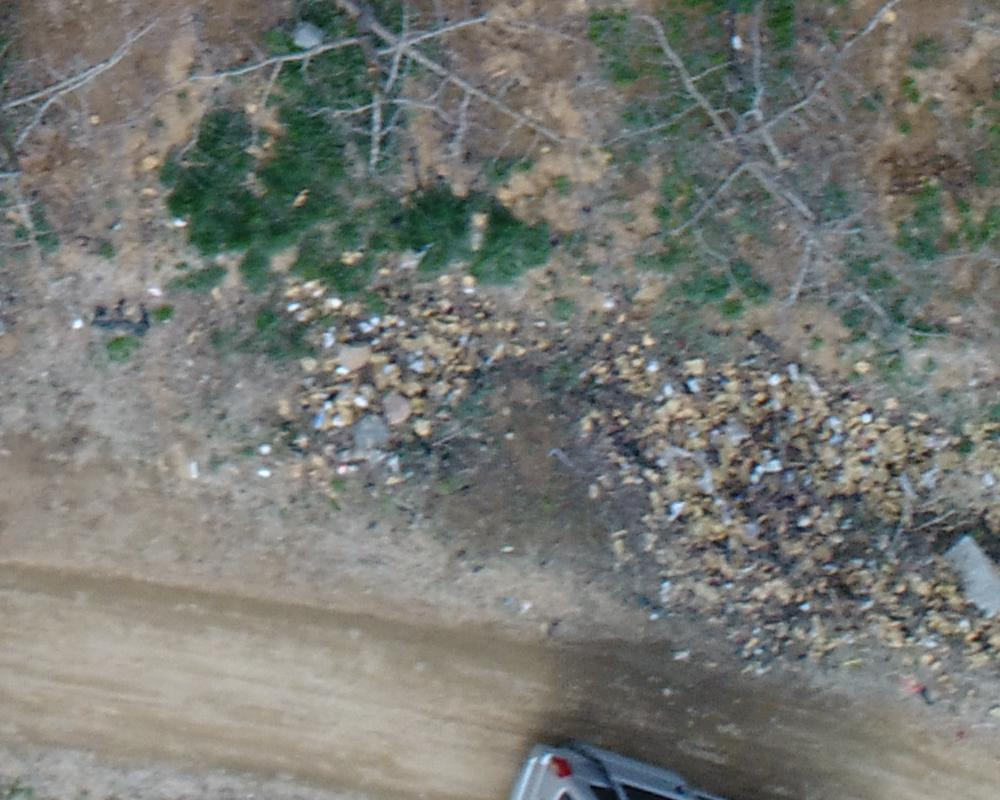apple: (610, 10, 970, 346), (185, 10, 587, 188), (10, 10, 169, 273)
